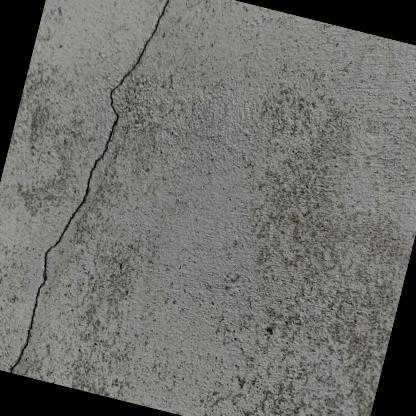crack: (9, 0, 170, 373)
